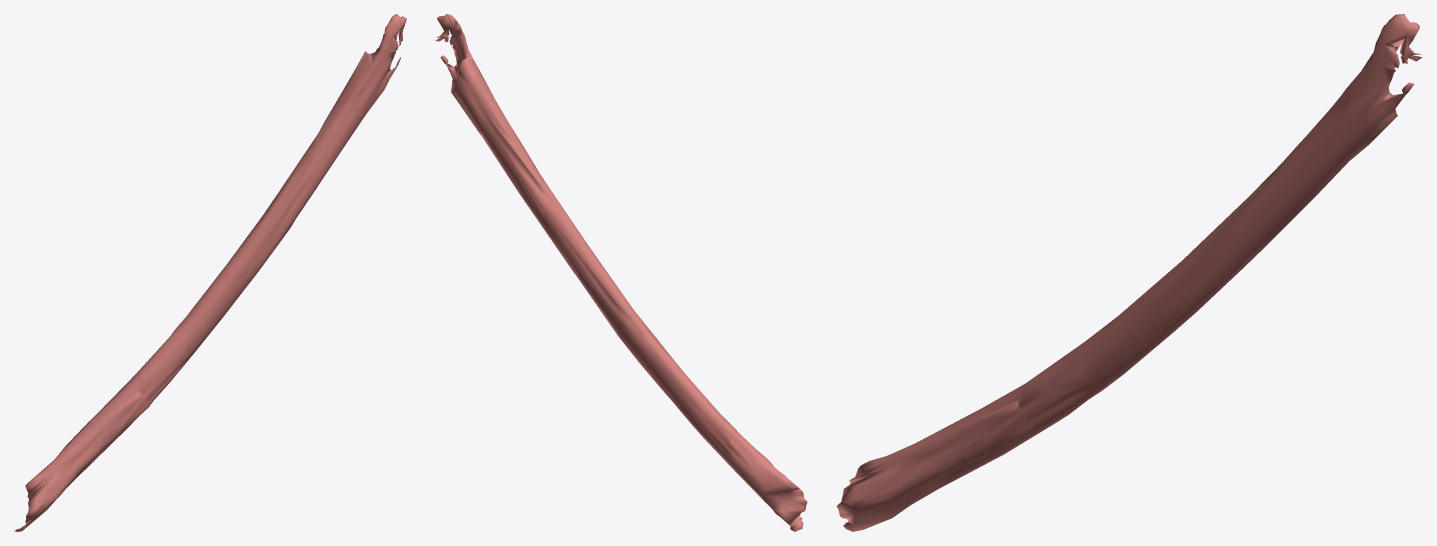
3 views of the same model, side by side, from view 1: azimuth 30°, elevation 25°; view 2: azimuth 150°, elevation 25°; view 3: azimuth 330°, elevation 25° (orthographic). The views are drawn at different scales.
Visible parts, largest first — view 1: ZA_c9a9538880f58d9a; view 2: ZA_c9a9538880f58d9a; view 3: ZA_c9a9538880f58d9a.
Part boxes in pixels (x1,y1,x2,y2): ZA_c9a9538880f58d9a: (14, 14, 406, 531); ZA_c9a9538880f58d9a: (435, 14, 807, 531); ZA_c9a9538880f58d9a: (836, 14, 1421, 531).
Size of the model in its own units: 0.1045 by 0.1132 by 0.00928.
